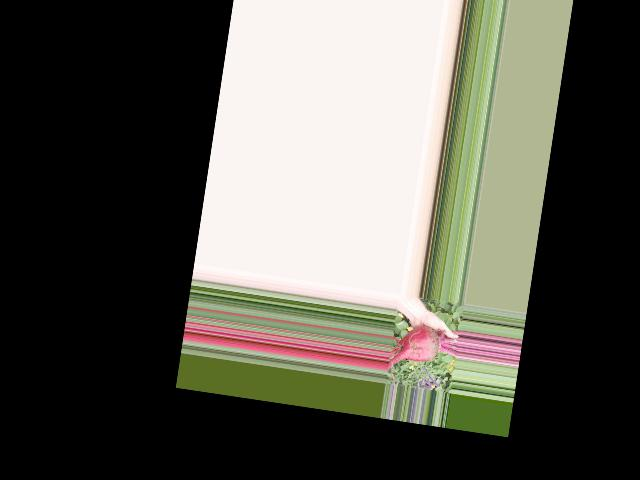beet: (386, 321, 460, 379)
